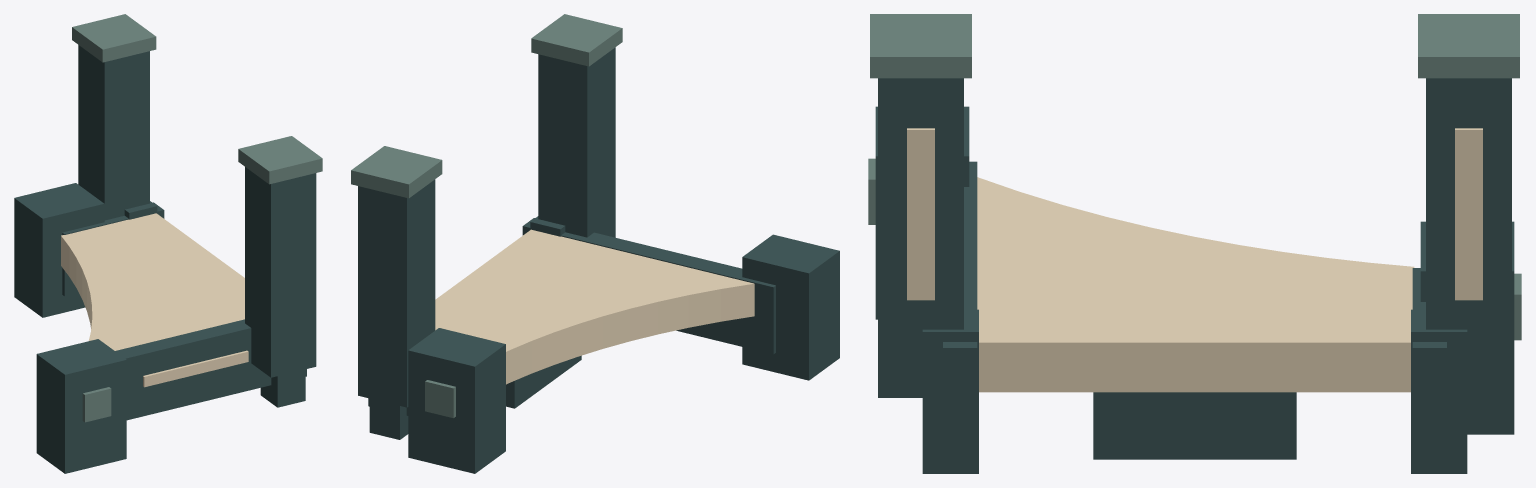
The model's file is Pier_Angled_25_Switch_lab2.glb.
3 renders of one model, left to right at view 1: azimuth 30°, elevation 25°; view 2: azimuth 150°, elevation 25°; view 3: azimuth 270°, elevation 25°, orthographic. The views are drawn at different scales.
Visible parts, largest first — view 1: Pier_Angled_25_Switch; view 2: Pier_Angled_25_Switch; view 3: Pier_Angled_25_Switch.
Part boxes in pixels (x1,y1,x2,y2): Pier_Angled_25_Switch: [14, 14, 322, 473]; Pier_Angled_25_Switch: [351, 14, 839, 473]; Pier_Angled_25_Switch: [868, 14, 1521, 473].
Bounding box in the file's own units: 3.18 × 2.95 × 4.17.
